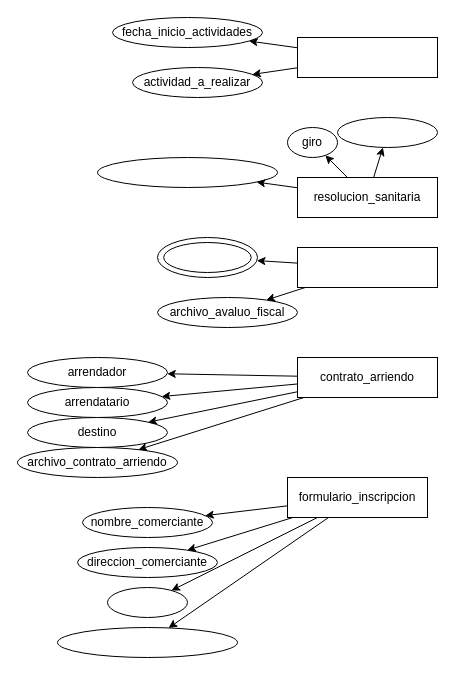
Image size: 455x675. Some labels were removed from this diagram. The shapes that lost their labels are listed below. From the top down, each one's centre as x and y in pixels, then its label:
the point at 367,57: inicio_actividades
the point at 387,132: direccion_local
the point at 187,172: archivo_resolucion_sanitaria
the point at 207,257: propietarios
the point at 367,267: avaluo_fiscal
the point at 147,602: numero
the point at 147,642: archivo_formulario_inscripcion
